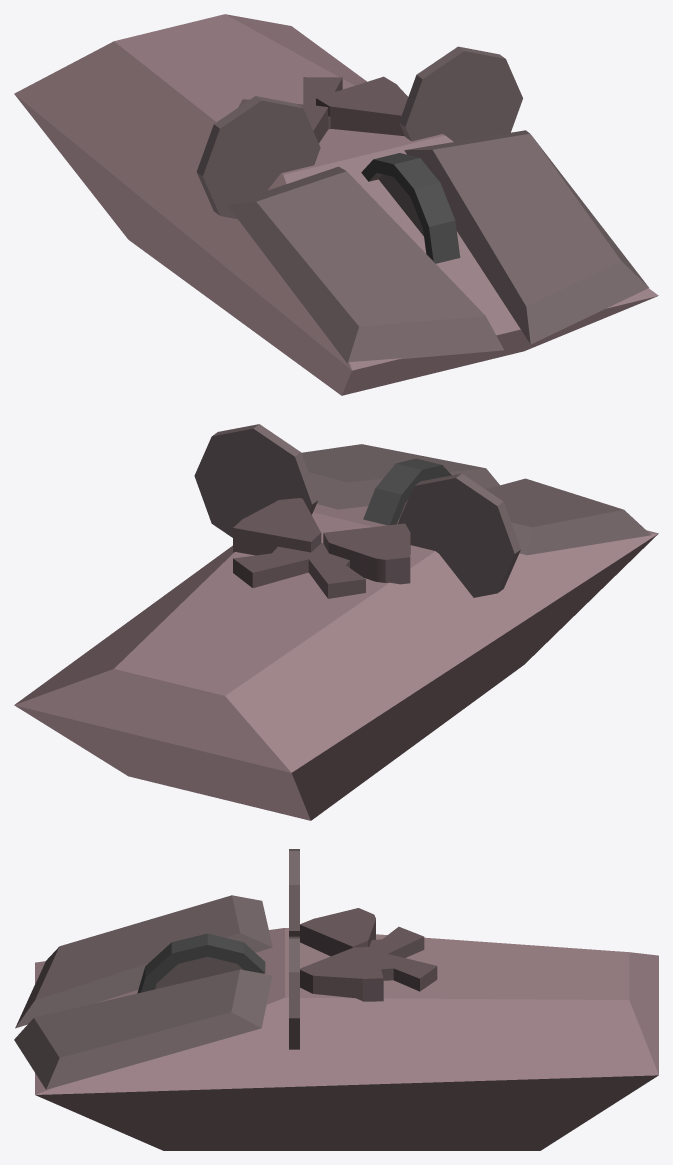
The model's file is SM_RatonNovia.fbx.
The picture shows the model from 3 angles, top to bottom: view 1: azimuth 30°, elevation 25°; view 2: azimuth 150°, elevation 25°; view 3: azimuth 270°, elevation 25°; orthographic projection. The views are drawn at different scales.
Visible parts, largest first — view 1: pCube1, polySurface2, polySurface1, pasted__pCylinder3, pCylinder3, group2_pasted__pCube5, pCylinder1; view 2: pCube1, group2_pasted__pCube5, pasted__pCylinder3, pCylinder3, polySurface2, polySurface1, pCylinder1; view 3: pCube1, polySurface1, polySurface2, group2_pasted__pCube5, pCylinder1, pCylinder3, pasted__pCylinder3.
Part boxes in pixels (x1,y1,x2,y2): pCube1: [14, 14, 658, 395]; polySurface2: [227, 166, 503, 363]; polySurface1: [404, 130, 648, 344]; pasted__pCylinder3: [196, 96, 320, 218]; pCylinder3: [399, 46, 522, 141]; group2_pasted__pCube5: [238, 76, 408, 143]; pCylinder1: [361, 153, 460, 263]; pCube1: [14, 504, 658, 820]; group2_pasted__pCube5: [233, 498, 410, 598]; pasted__pCylinder3: [397, 473, 520, 597]; pCylinder3: [194, 424, 318, 537]; polySurface2: [486, 478, 651, 555]; polySurface1: [301, 444, 499, 509]; pCylinder1: [363, 458, 451, 525]; pCube1: [35, 928, 658, 1150]; polySurface1: [14, 969, 272, 1089]; polySurface2: [15, 895, 272, 1028]; group2_pasted__pCube5: [300, 908, 437, 1001]; pCylinder1: [137, 933, 265, 993]; pCylinder3: [289, 936, 299, 1049]; pasted__pCylinder3: [289, 849, 299, 936].
Size of the model in its own units: 3.53 by 2.58 by 6.96.
